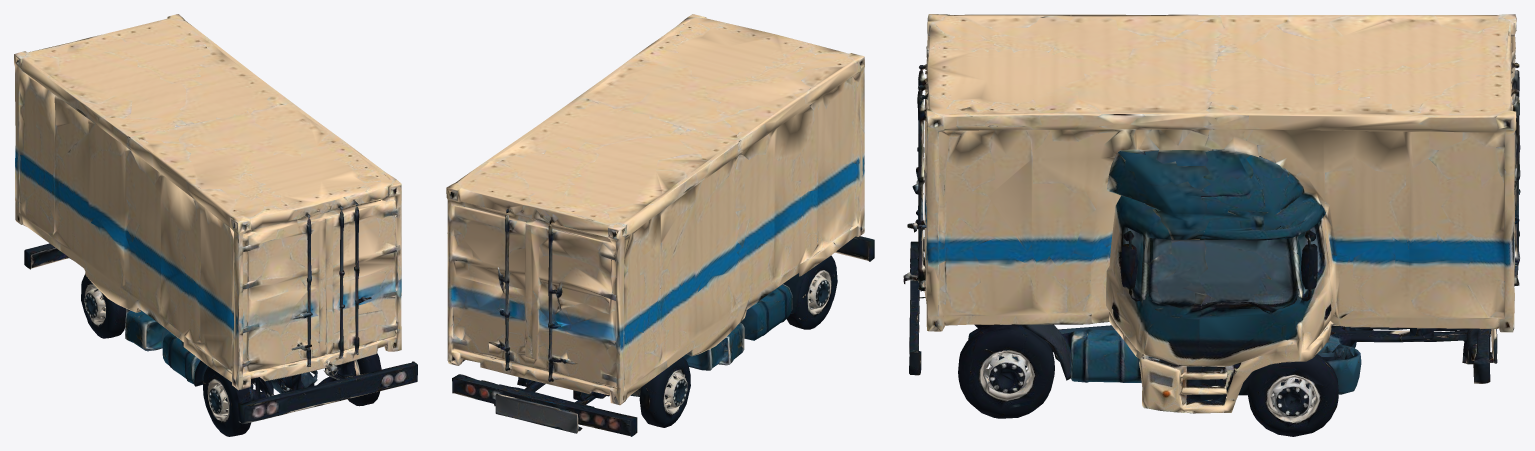
The model's file is boxtruck.glb.
3 renders of one model, left to right at view 1: azimuth 30°, elevation 25°; view 2: azimuth 150°, elevation 25°; view 3: azimuth 270°, elevation 25°, orthographic. The views are drawn at different scales.
Bounding box in the file's own units: 0.9623 × 1.05 × 1.9.
Materials: 1 (1 with a texture image).
